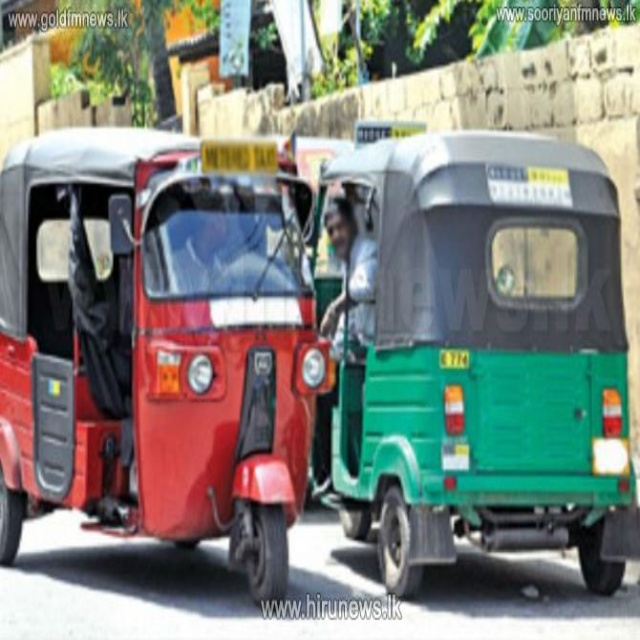Motorcycle: (1, 131, 335, 608), (308, 147, 640, 596)
